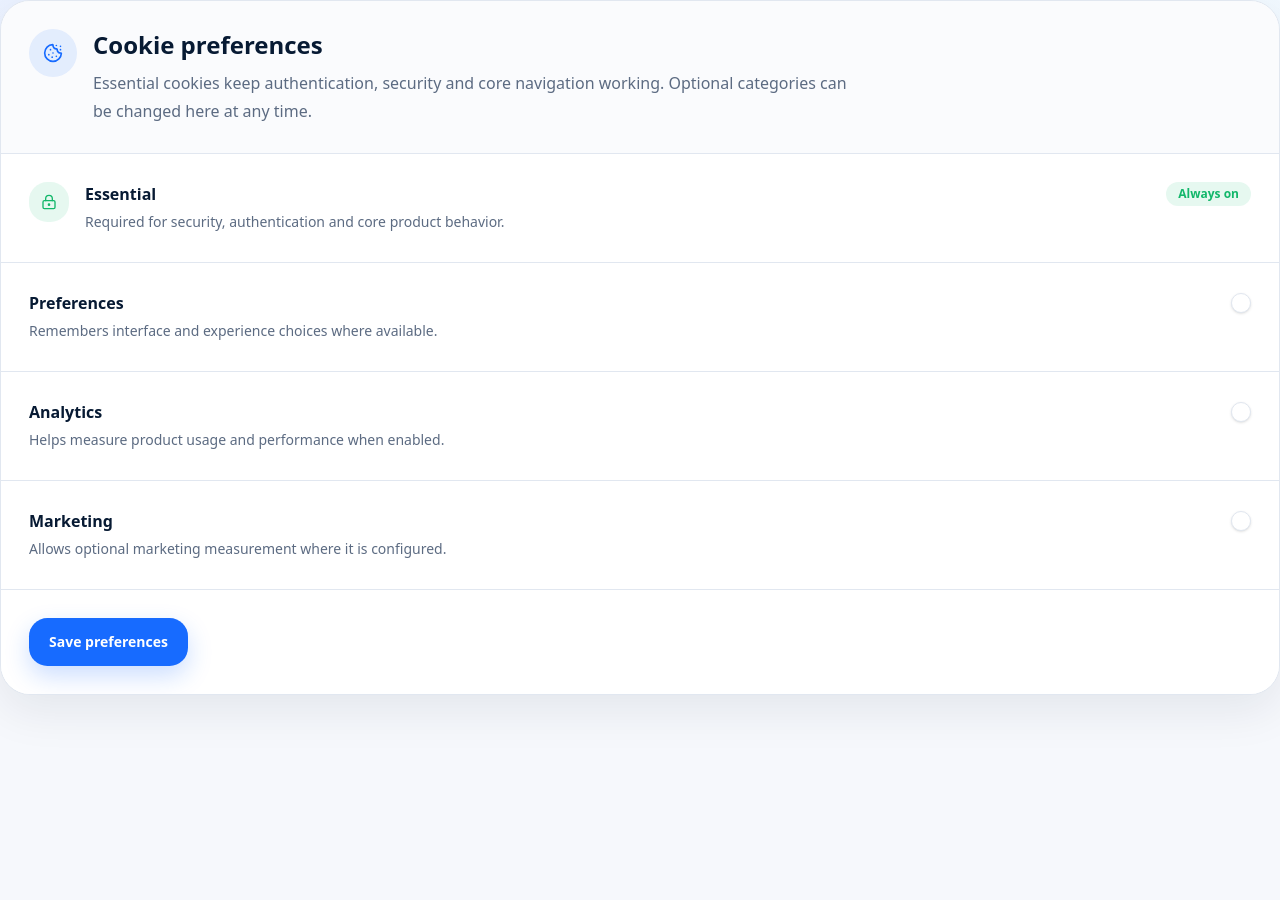
Test case: CookiePreferencesPanel › persists optional cookie choices and dismisses the banner as managed
Check: the text "Always on" is shown, box top-left (1166, 182), bottom-right (1251, 206)
Click the checkbox labelled "Analytics".
click(1241, 412)  # box top-left (1231, 402), bottom-right (1251, 422)
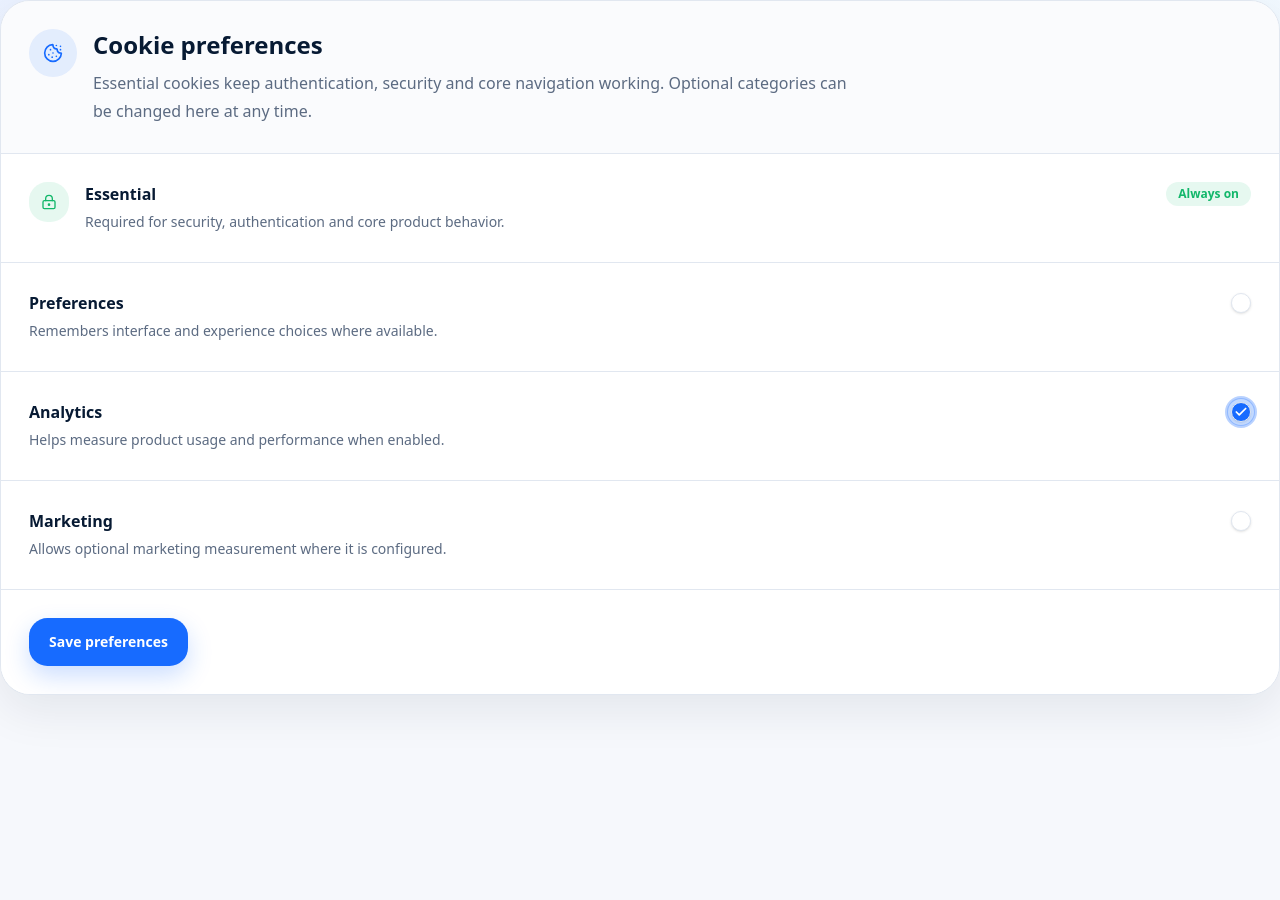
Click the button "Save preferences".
click(108, 642)  # box top-left (29, 618), bottom-right (188, 666)
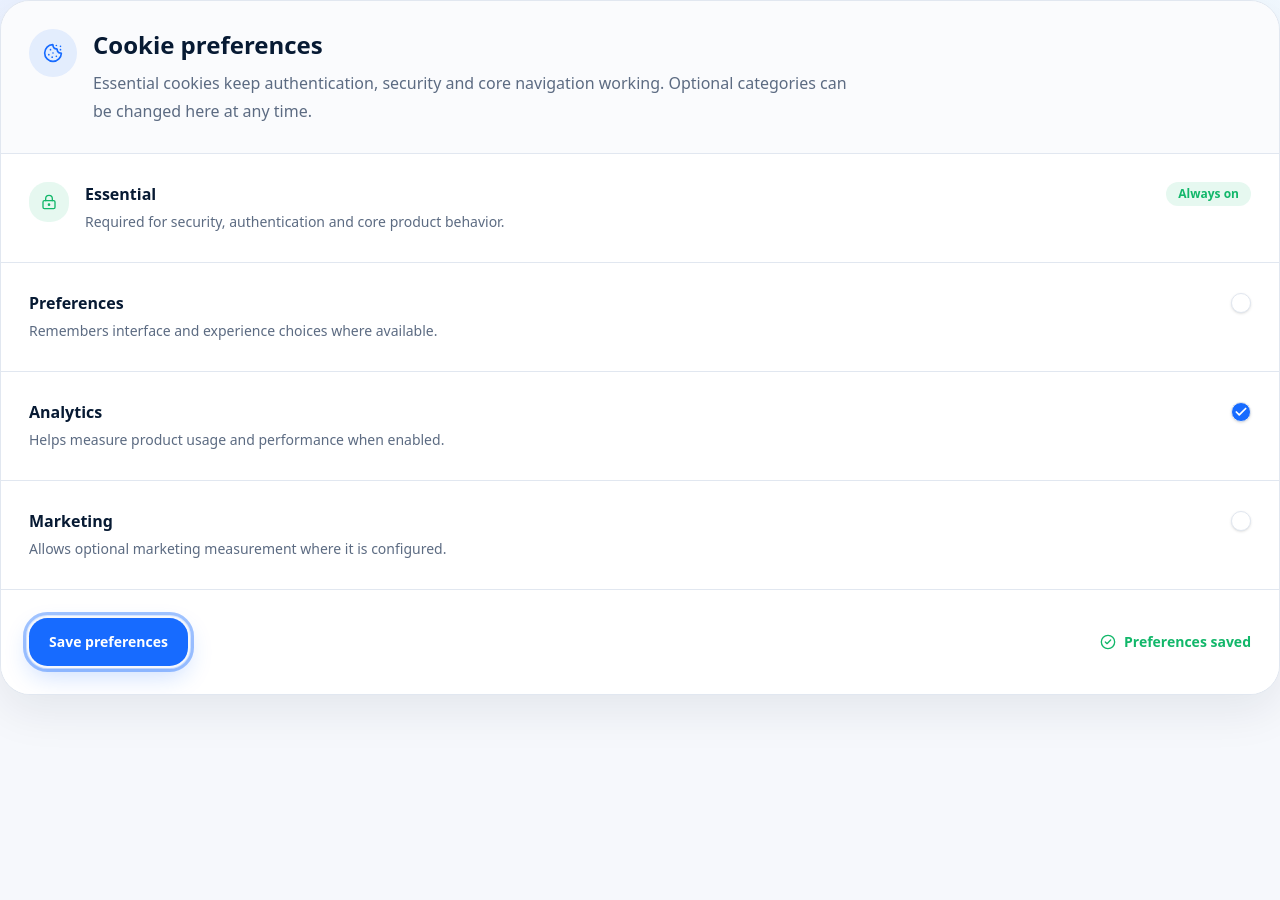
Check: the text "Preferences saved" is shown, box top-left (1100, 632), bottom-right (1251, 652)
